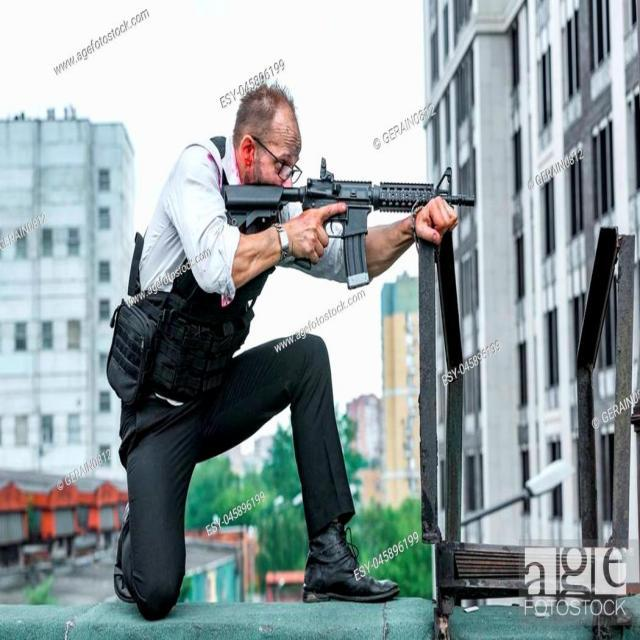guns: (222, 154, 476, 286)
